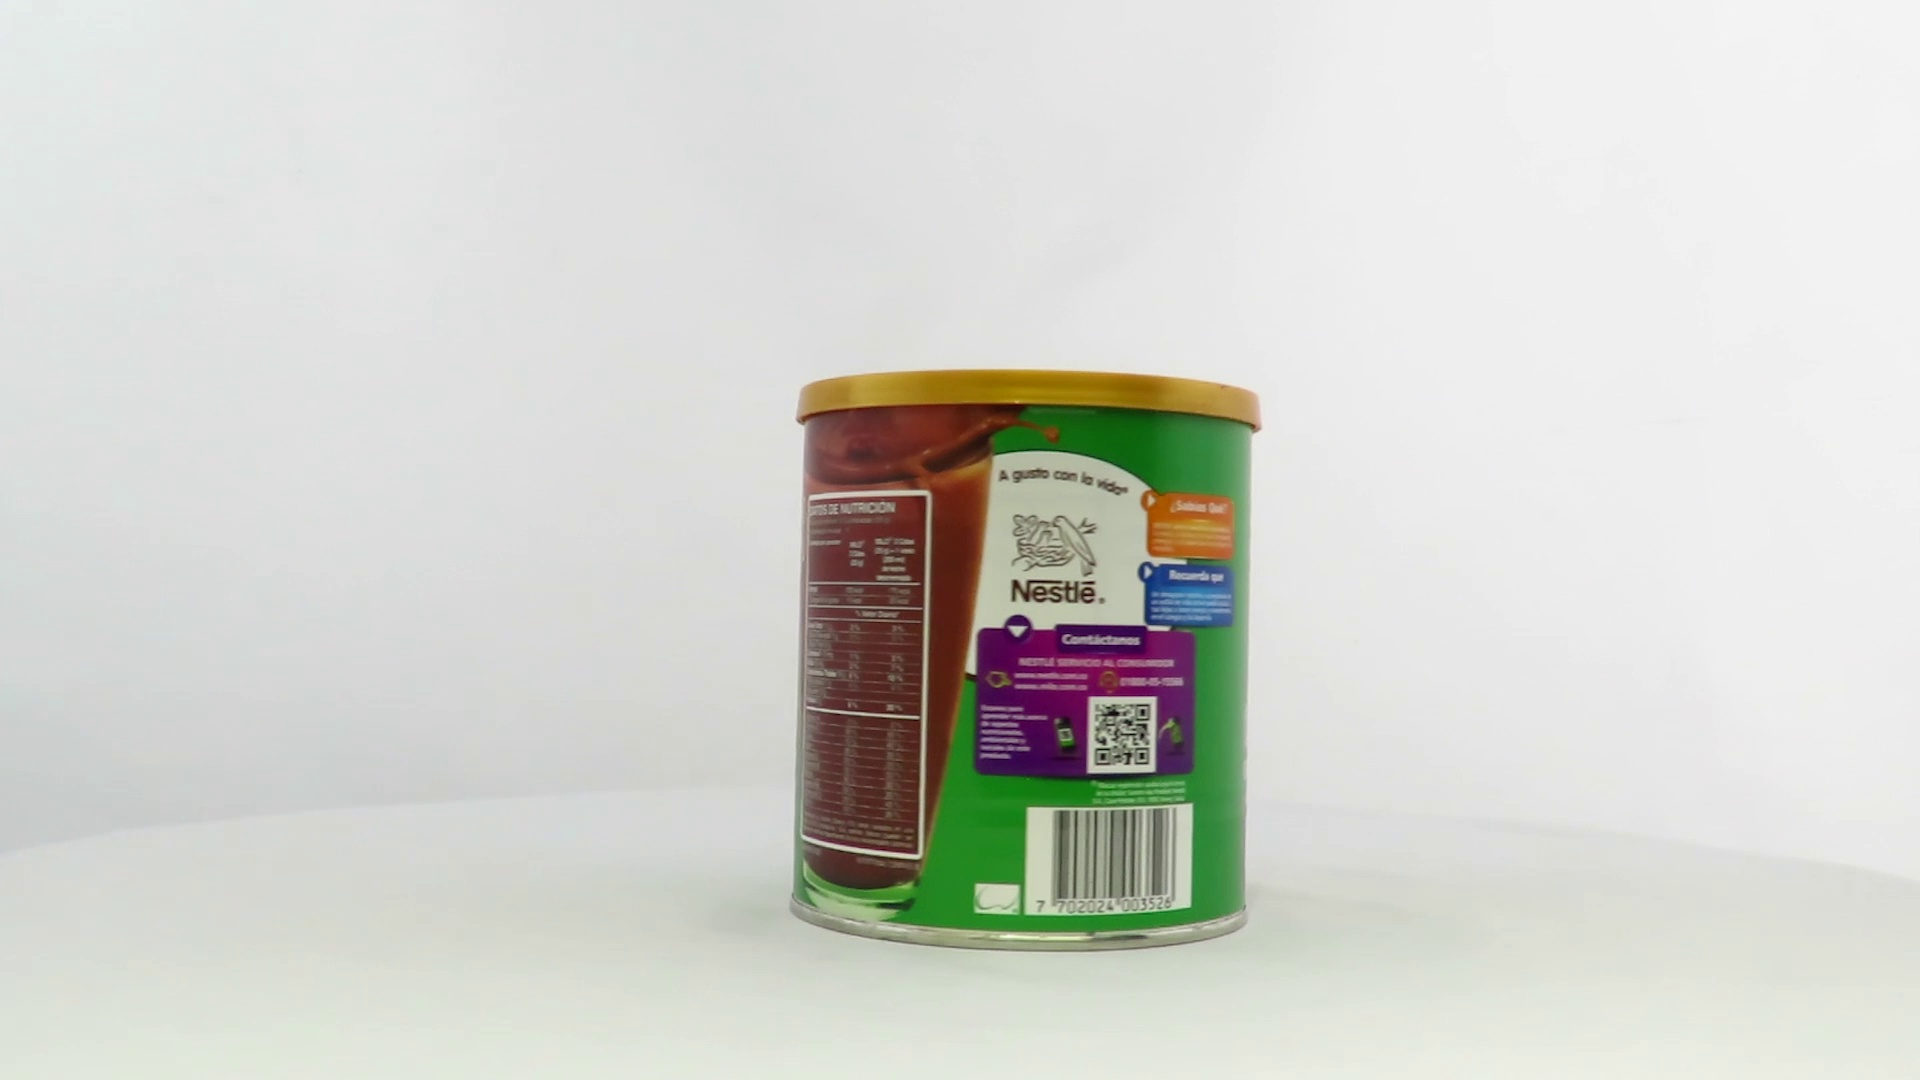COL0170203LAT40000: (785, 364, 1269, 959)
